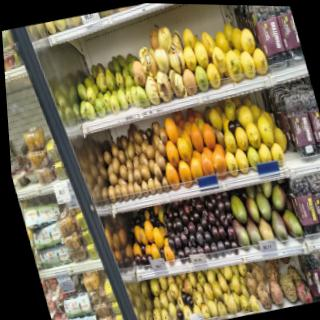fruit: (283, 92, 320, 157), (289, 172, 320, 231), (250, 6, 283, 61), (184, 119, 209, 157), (302, 253, 320, 300), (305, 176, 320, 232), (179, 22, 200, 53), (208, 44, 229, 73), (222, 51, 243, 80), (199, 119, 218, 151), (162, 116, 182, 146), (204, 63, 224, 90), (238, 25, 257, 51), (192, 42, 210, 67), (235, 103, 255, 124), (210, 207, 223, 229), (166, 236, 177, 252), (180, 221, 192, 235), (317, 249, 320, 295)
